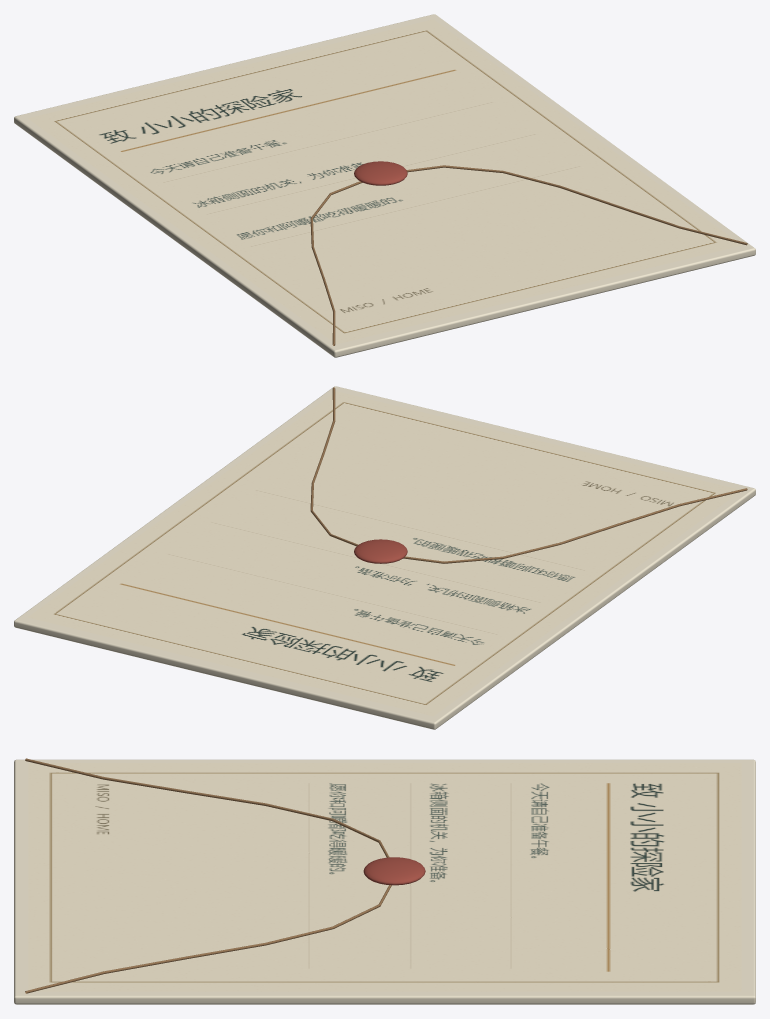
The model's file is letter.glb.
3 views of the same model, one above another, from view 1: azimuth 30°, elevation 25°; view 2: azimuth 150°, elevation 25°; view 3: azimuth 270°, elevation 25° (orthographic). The views are drawn at different scales.
Visible parts, largest first — view 1: letter; view 2: letter; view 3: letter.
Part boxes in pixels (<box>): letter: <box>14,14,755,357</box>; letter: <box>14,386,755,729</box>; letter: <box>14,758,755,1004</box>.
Bounding box in the file's own units: 0.235 × 0.0095 × 0.31.
Materials: 4 (1 with a texture image).
